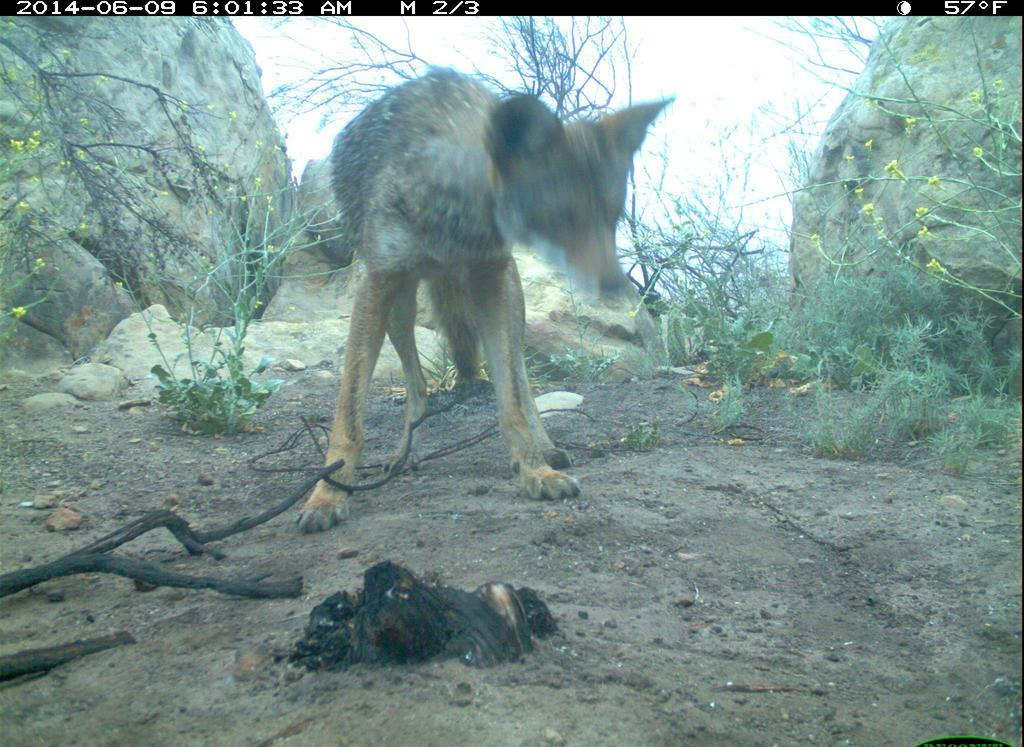coyote: (292, 59, 687, 543)
